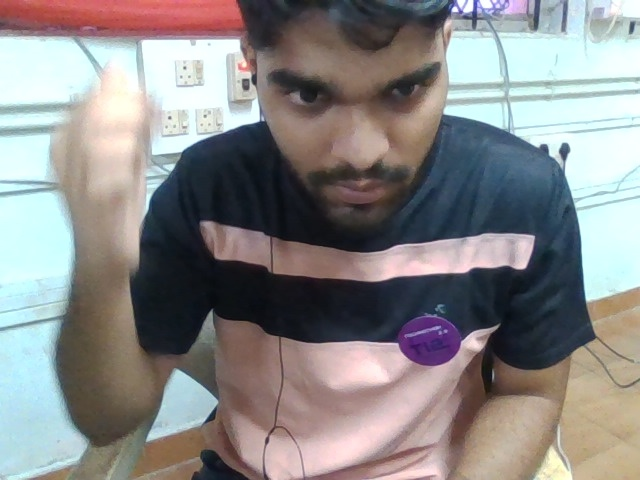All done: (75, 122, 126, 187)
